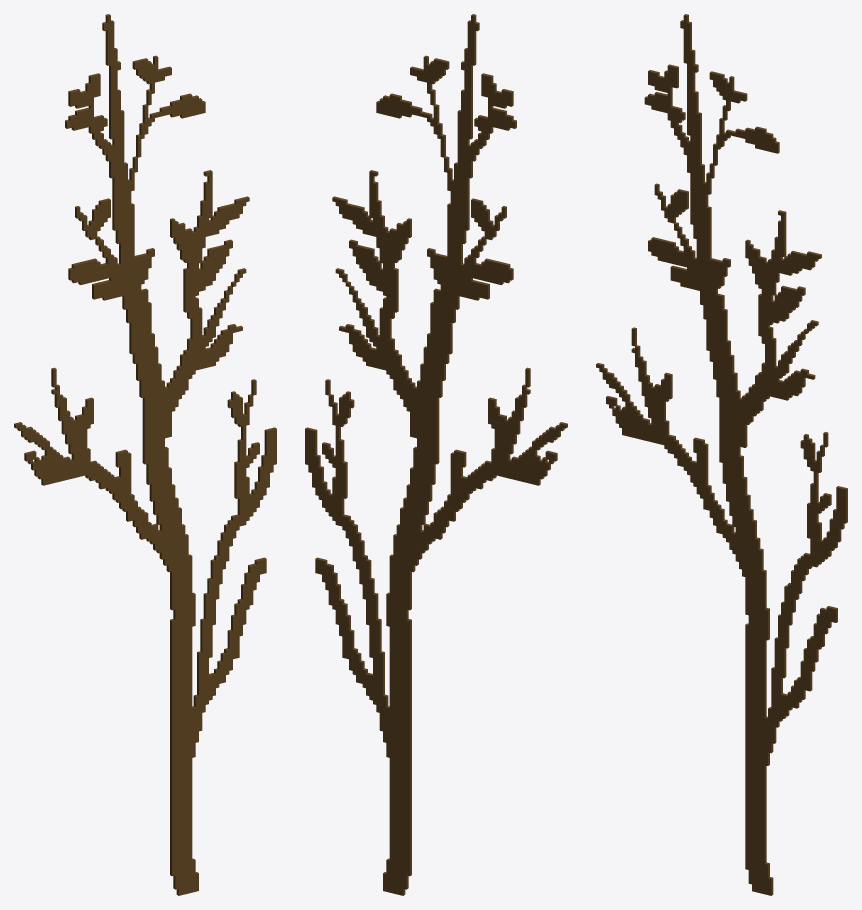
File: forest1.1-64.obj
The picture shows the model from 3 angles, left to right: view 1: azimuth 30°, elevation 25°; view 2: azimuth 150°, elevation 25°; view 3: azimuth 330°, elevation 25°; orthographic projection. The views are drawn at different scales.
Size of the model in its own units: 7.7 by 25.3 by 0.1.
Materials: 1 (1 with a texture image).
